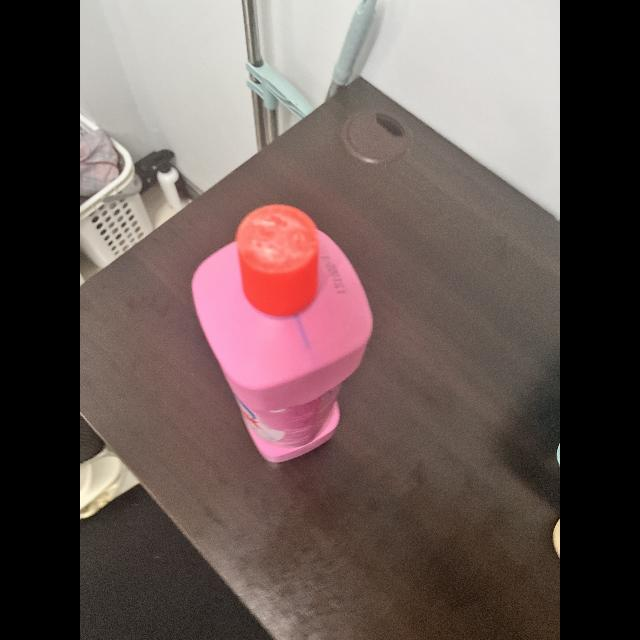chemical_plastic_bottle: (191, 202, 373, 468)
